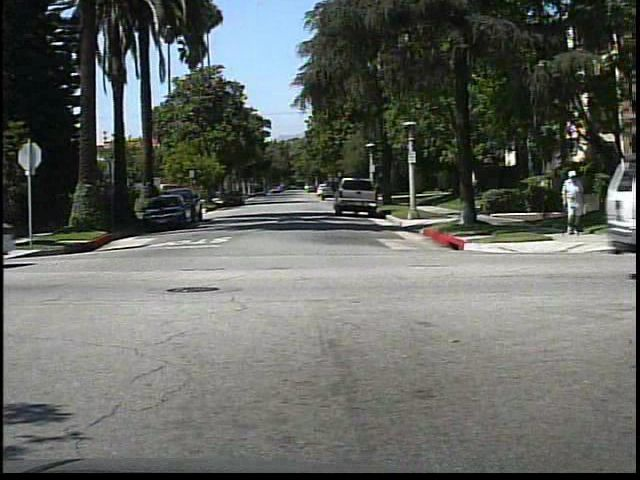person: (558, 167, 587, 237)
